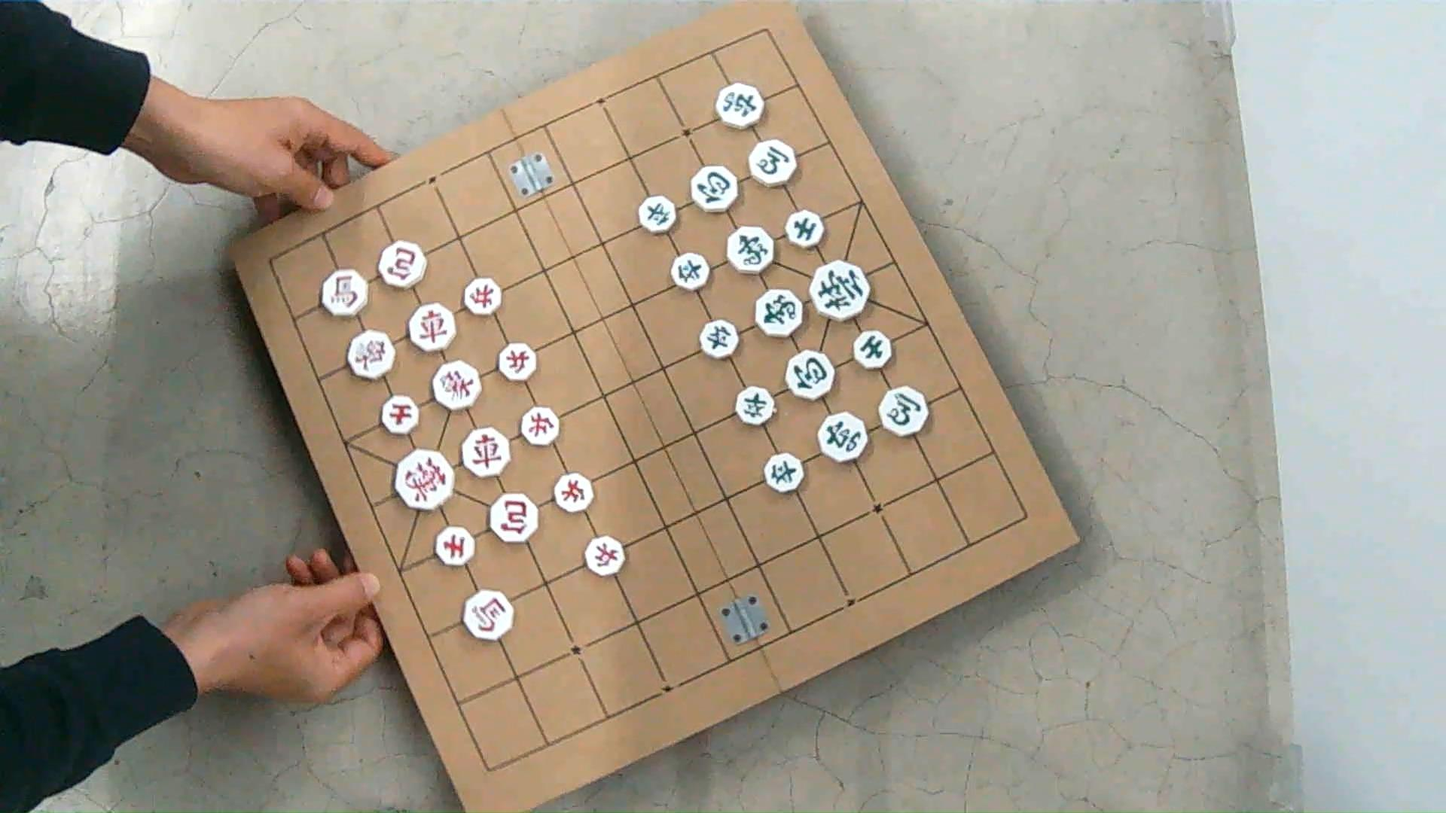cha_green: (819, 412, 868, 462), (716, 83, 764, 129)
cha_red: (461, 428, 510, 477), (408, 303, 456, 352)
jol_green: (764, 453, 804, 492), (700, 320, 738, 359), (736, 386, 774, 425), (638, 196, 676, 233), (672, 253, 709, 290)
jol_red: (520, 406, 560, 446), (554, 473, 593, 513), (585, 536, 624, 576), (498, 343, 537, 381), (464, 278, 502, 316)
ma_green: (880, 386, 929, 436), (749, 140, 796, 186)
ma_red: (463, 590, 513, 641), (320, 269, 368, 318)
po_green: (787, 350, 834, 400), (691, 166, 737, 212)
po_red: (489, 493, 537, 543), (378, 240, 426, 288)
sa_green: (853, 331, 891, 370), (787, 210, 823, 248)
sa_red: (435, 526, 474, 566), (381, 395, 419, 434)
sang_green: (756, 289, 803, 337), (728, 227, 774, 273)
sang_red: (432, 361, 480, 410), (347, 330, 393, 379)
wang_green: (810, 260, 869, 320)
wang_red: (395, 449, 453, 510)
